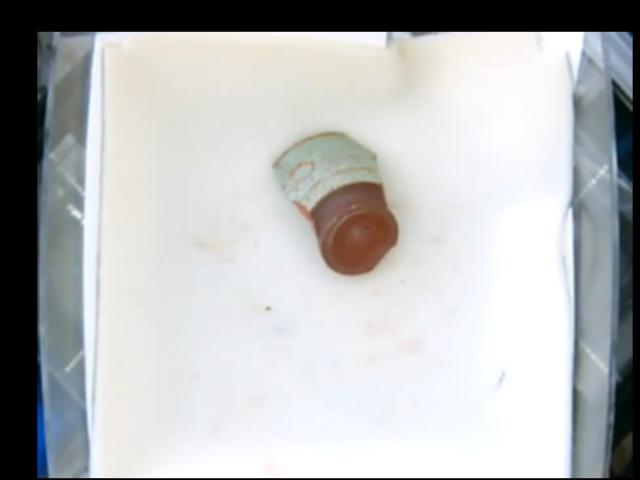China: (274, 132, 398, 270)
